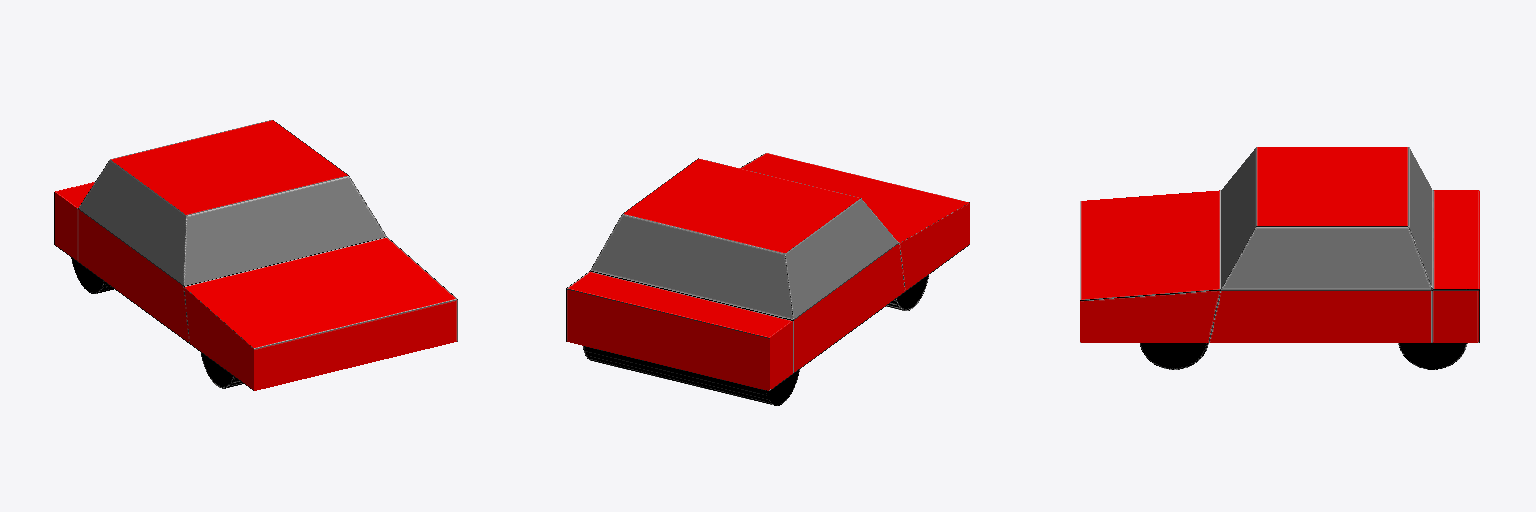
The picture shows the model from 3 angles: view 1: azimuth 30°, elevation 25°; view 2: azimuth 150°, elevation 25°; view 3: azimuth 270°, elevation 25°; orthographic projection.
Parts seen in each view (by area): view 1: car; view 2: car; view 3: car.
Part boxes in pixels (bbox=[...]): car: bbox=[54, 120, 457, 390]; car: bbox=[566, 153, 969, 405]; car: bbox=[1080, 147, 1479, 369].
Size of the model in its own units: 2 by 1.3 by 3.4.
Materials: 1 (1 with a texture image).